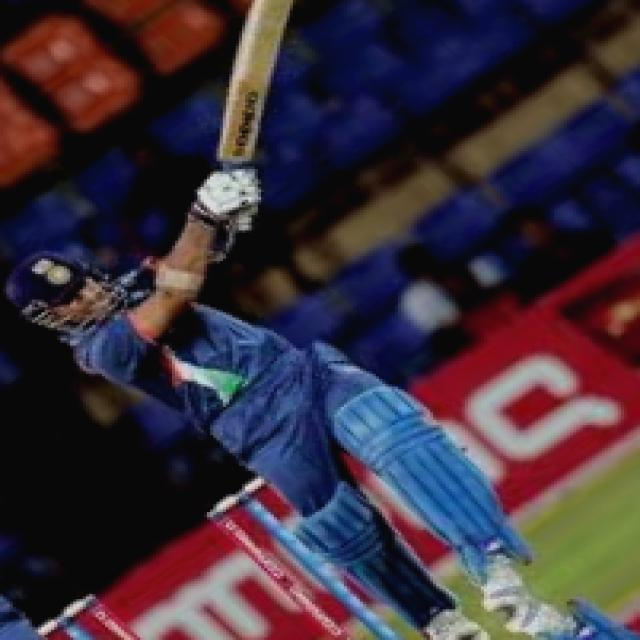toe: (244, 0, 307, 33)
